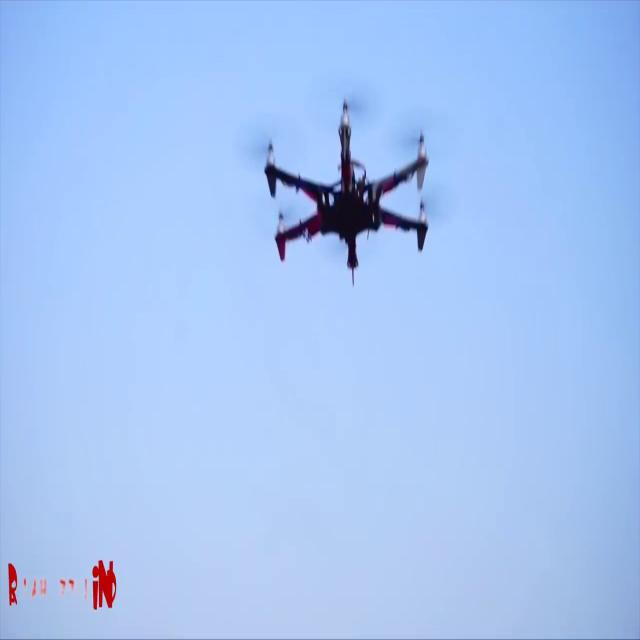drone: (246, 75, 451, 310)
